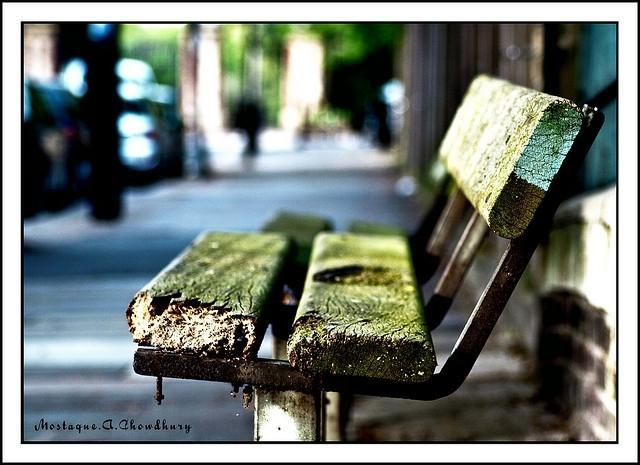car: (118, 79, 185, 182)
